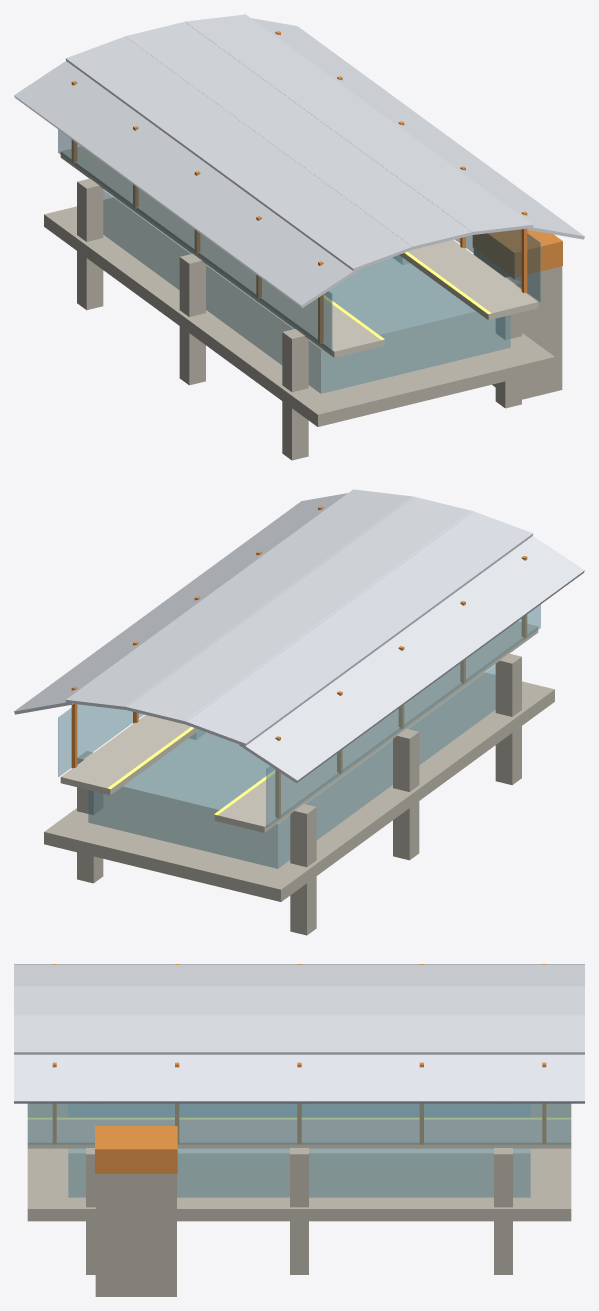
The model's file is metro_station.glb.
3 renders of one model, top to bottom at view 1: azimuth 30°, elevation 25°; view 2: azimuth 150°, elevation 25°; view 3: azimuth 270°, elevation 25°, orthographic.
Visible parts, largest first — view 1: station; view 2: station; view 3: station.
Part boxes in pixels (bbox=[...]): station: bbox=[14, 14, 584, 460]; station: bbox=[14, 489, 584, 935]; station: bbox=[14, 964, 584, 1296].
Size of the model in its own units: 25.51 by 17.74 by 42.
